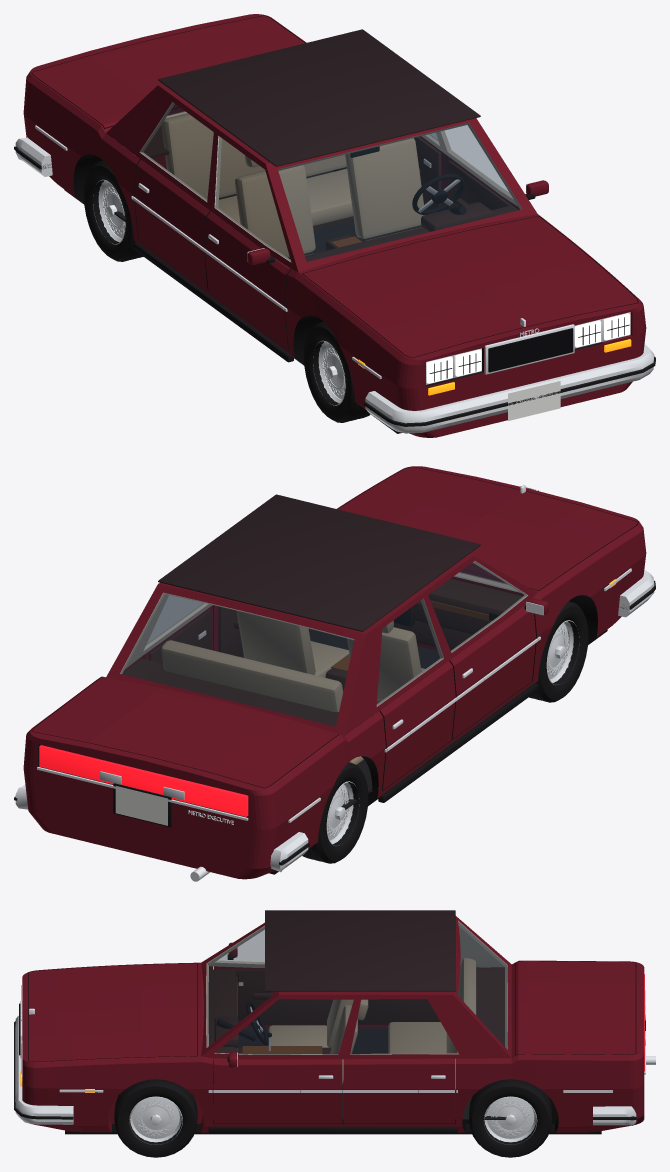
Rendered from metro-executive.glb.
3 views of the same model, one above another, from view 1: azimuth 30°, elevation 25°; view 2: azimuth 150°, elevation 25°; view 3: azimuth 270°, elevation 25° (orthographic). The views are drawn at different scales.
Visible parts, largest first — view 1: Body, Hood, Interior, Windows, Trunk, Door_FR, Door_RR, Glass_Door_F_R, Glass_Door_R_R, Lights, Tire_FR, Tire_RR (+7 smaller); view 2: Body, Interior, Windows, Trunk, Hood, Door_FR, Door_RR, Lights, Glass_Door_F_R, Glass_Door_R_R, Tire_RR, Tire_FR (+6 smaller); view 3: Body, Hood, Interior, Trunk, Door_FL, Windows, Door_RL, Glass_Door_F_L, Glass_Door_R_L, Tire_FL, Tire_RL, DoorCard_FR (+6 smaller).
Boxes of the visible parts, <box> form: Body: <box>14,14,655,437</box>; Hood: <box>302,216,637,358</box>; Interior: <box>114,113,516,261</box>; Windows: <box>168,104,521,261</box>; Trunk: <box>31,15,304,128</box>; Door_FR: <box>202,211,291,348</box>; Door_RR: <box>133,160,210,289</box>; Glass_Door_F_R: <box>215,136,290,261</box>; Glass_Door_R_R: <box>141,103,213,200</box>; Lights: <box>358,313,631,395</box>; Tire_FR: <box>303,321,370,422</box>; Tire_RR: <box>83,160,143,261</box>; Body: <box>14,466,655,879</box>; Interior: <box>122,579,522,809</box>; Windows: <box>120,563,507,726</box>; Trunk: <box>31,676,339,788</box>; Hood: <box>338,467,637,590</box>; Door_FR: <box>449,598,548,739</box>; Door_RR: <box>379,661,457,790</box>; Lights: <box>39,579,616,816</box>; Glass_Door_F_R: <box>428,561,526,651</box>; Glass_Door_R_R: <box>377,599,442,705</box>; Tire_RR: <box>302,762,368,863</box>; Tire_FR: <box>529,601,588,702</box>; Body: <box>14,910,645,1133</box>; Hood: <box>29,963,196,1061</box>; Interior: <box>208,958,505,1119</box>; Trunk: <box>516,961,635,1055</box>; Door_FL: <box>213,1052,342,1123</box>; Windows: <box>207,922,506,1048</box>; Door_RL: <box>343,1058,454,1123</box>; Glass_Door_F_L: <box>216,999,353,1054</box>; Glass_Door_R_L: <box>350,999,458,1054</box>; Tire_FL: <box>114,1079,197,1157</box>; Tire_RL: <box>469,1079,551,1157</box>; DoorCard_FR: <box>222,969,332,1024</box>.
Bounding box in the file's own units: 2.27 × 1.47 × 5.25.
